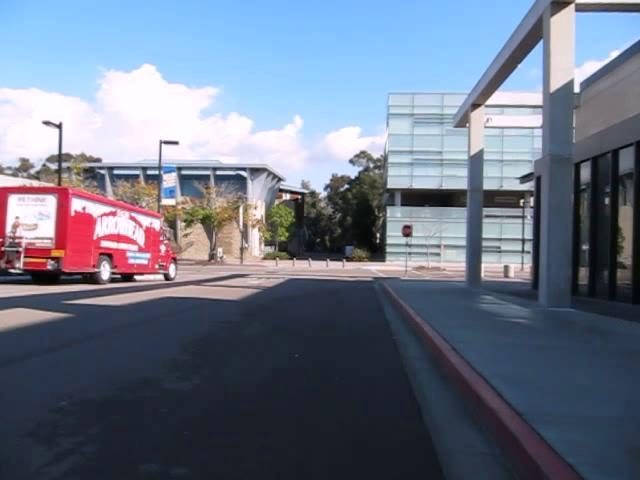stop: (401, 224, 413, 238)
